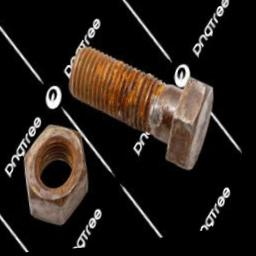Corroded-Bolt: (69, 48, 215, 174)
Corroded-Nut: (25, 126, 92, 228)
